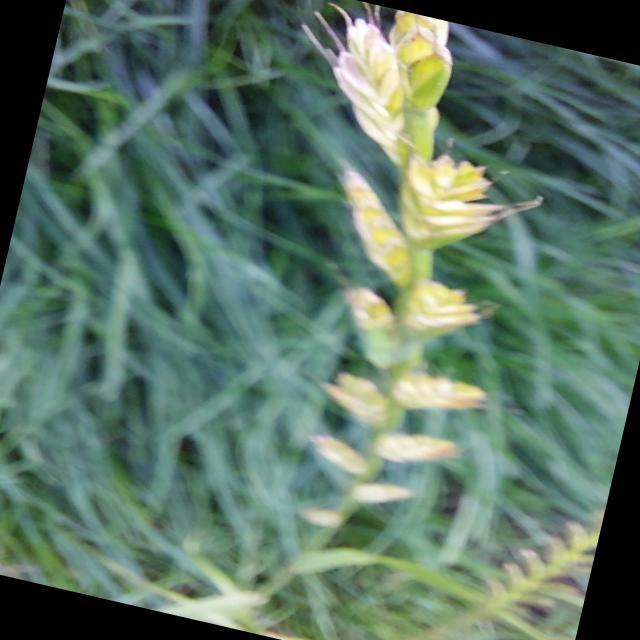Lolium: (185, 0, 583, 565)
